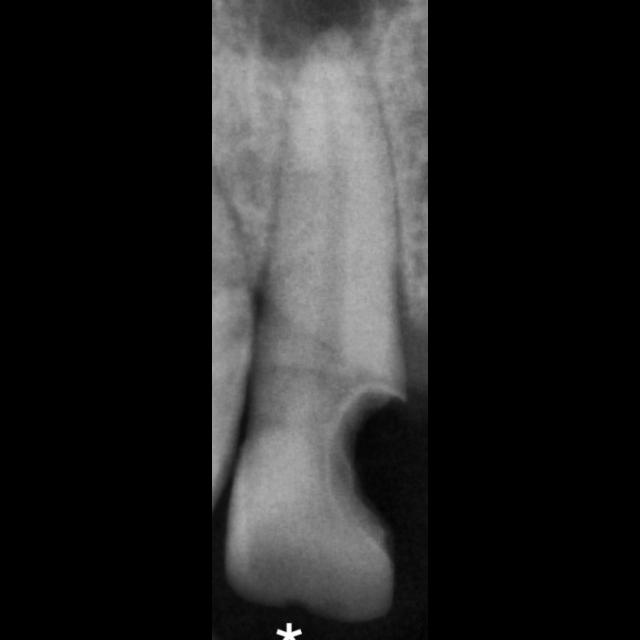tooth: (223, 24, 408, 622)
